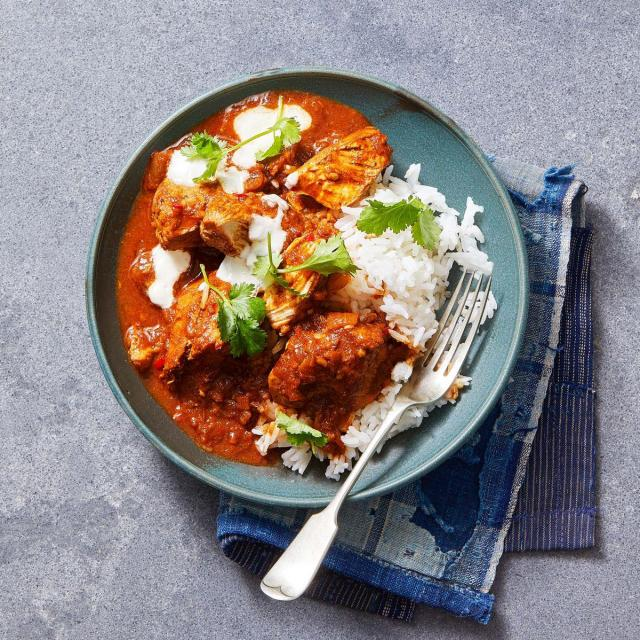chicken: (121, 106, 339, 466)
rice: (354, 186, 498, 379)
